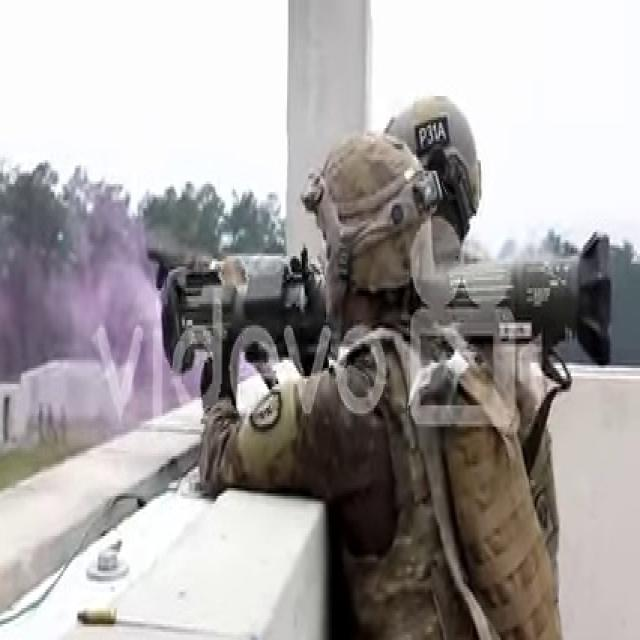bazooka: (151, 248, 625, 375)
